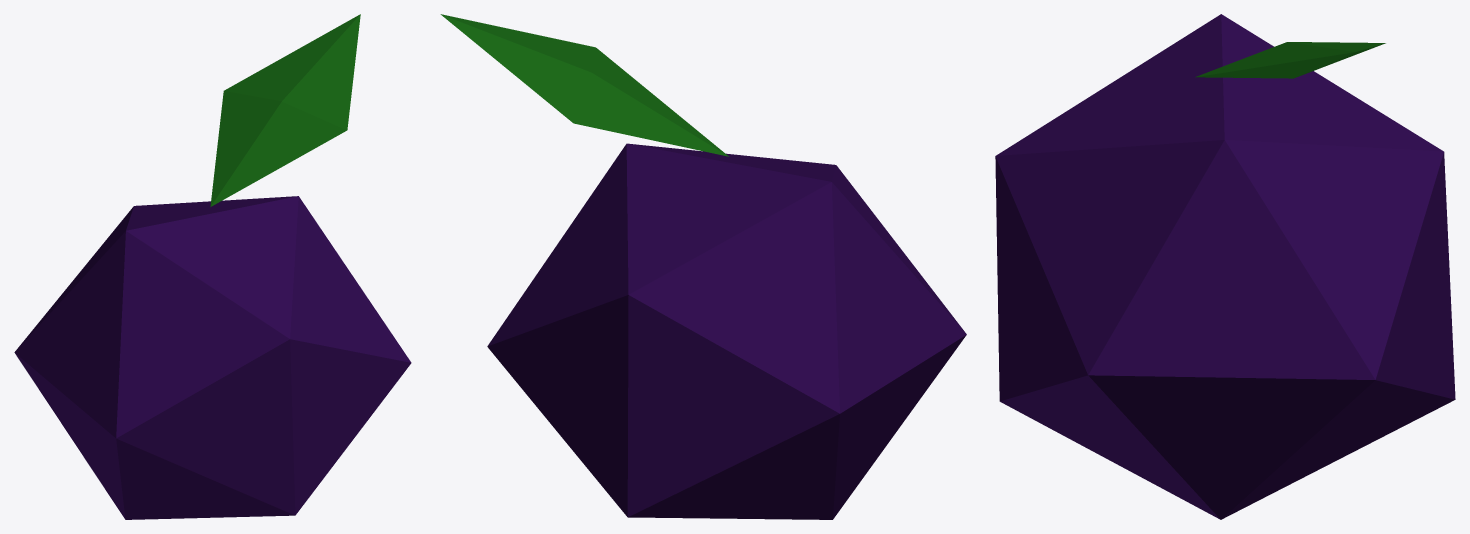
File: food_berry_b.fbx
3 views of the same model, side by side, from view 1: azimuth 30°, elevation 25°; view 2: azimuth 150°, elevation 25°; view 3: azimuth 270°, elevation 25° (orthographic). The views are drawn at different scales.
Visible parts, largest first — view 1: food_berry_b; view 2: food_berry_b; view 3: food_berry_b.
Boxes of the visible parts, x1,y1,x2,y2 form: food_berry_b: (14,14,411,519); food_berry_b: (440,14,966,519); food_berry_b: (995,14,1455,519).
Size of the model in its own units: 72.44 by 80.26 by 61.79.
